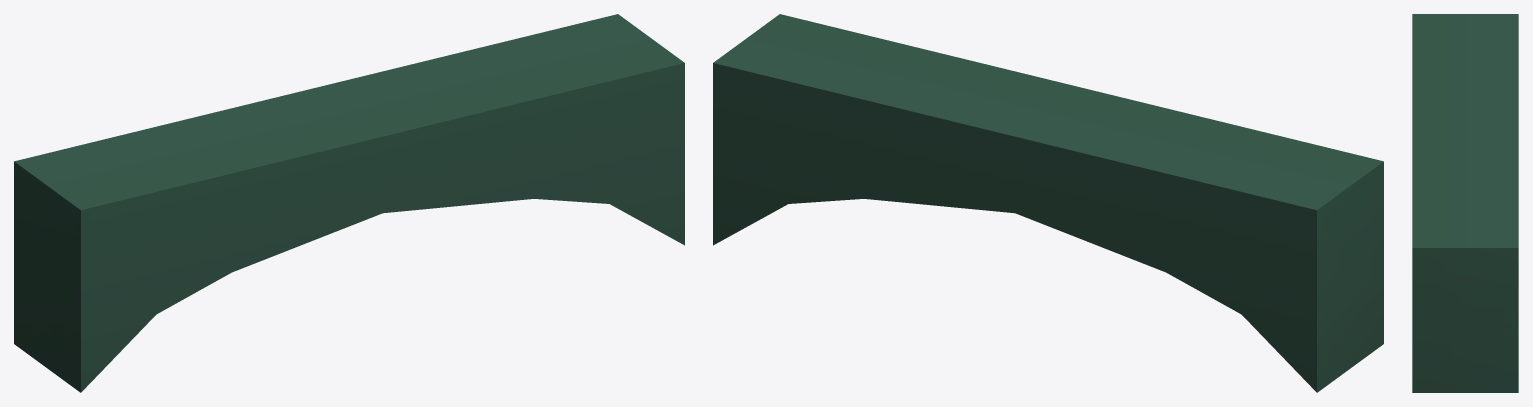
Rendered from SM_Bridge_01.fbx.
The picture shows the model from 3 angles, left to right: view 1: azimuth 30°, elevation 25°; view 2: azimuth 150°, elevation 25°; view 3: azimuth 270°, elevation 25°; orthographic projection. The views are drawn at different scales.
Visible parts, largest first — view 1: SM_Bridge_01; view 2: SM_Bridge_01; view 3: SM_Bridge_01.
Boxes of the visible parts, x1=… form: SM_Bridge_01: x1=14, y1=14, x2=684, y2=392; SM_Bridge_01: x1=713, y1=14, x2=1383, y2=392; SM_Bridge_01: x1=1412, y1=14, x2=1518, y2=392.
Size of the model in its own units: 1166 by 337 by 224.
1 material, 1 textured.
